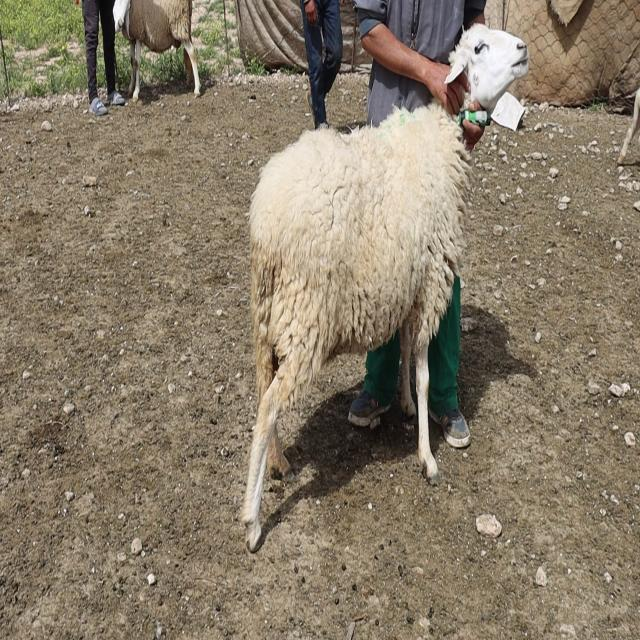Score_4: (240, 24, 529, 552)
